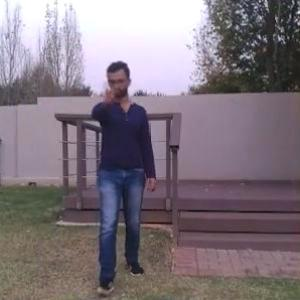takeoff-hand: (98, 78, 120, 108)
